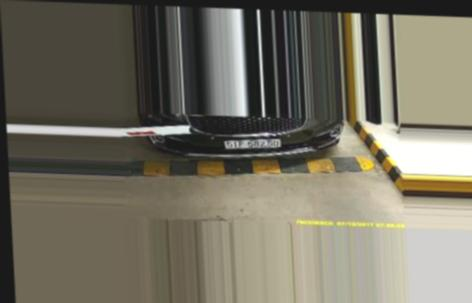License_Plate: (222, 136, 282, 150)
